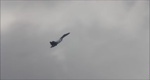maybay_muctieu: (49, 31, 70, 51)
